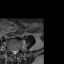CCS_normal: (13, 47, 15, 56)
LFS_normal: (17, 46, 20, 52)
LLS_normal: (15, 47, 17, 55)
RFS_stenosis: (9, 46, 11, 52)
RLS_normal: (11, 47, 13, 55)
